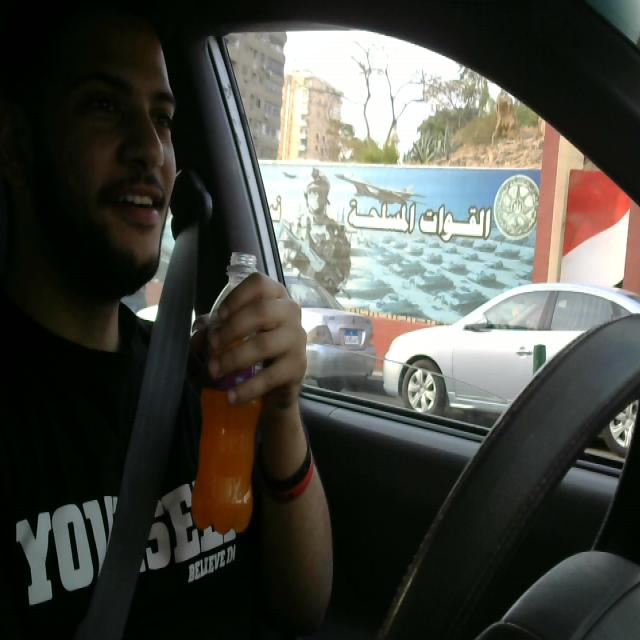drinking: (191, 250, 265, 538)
